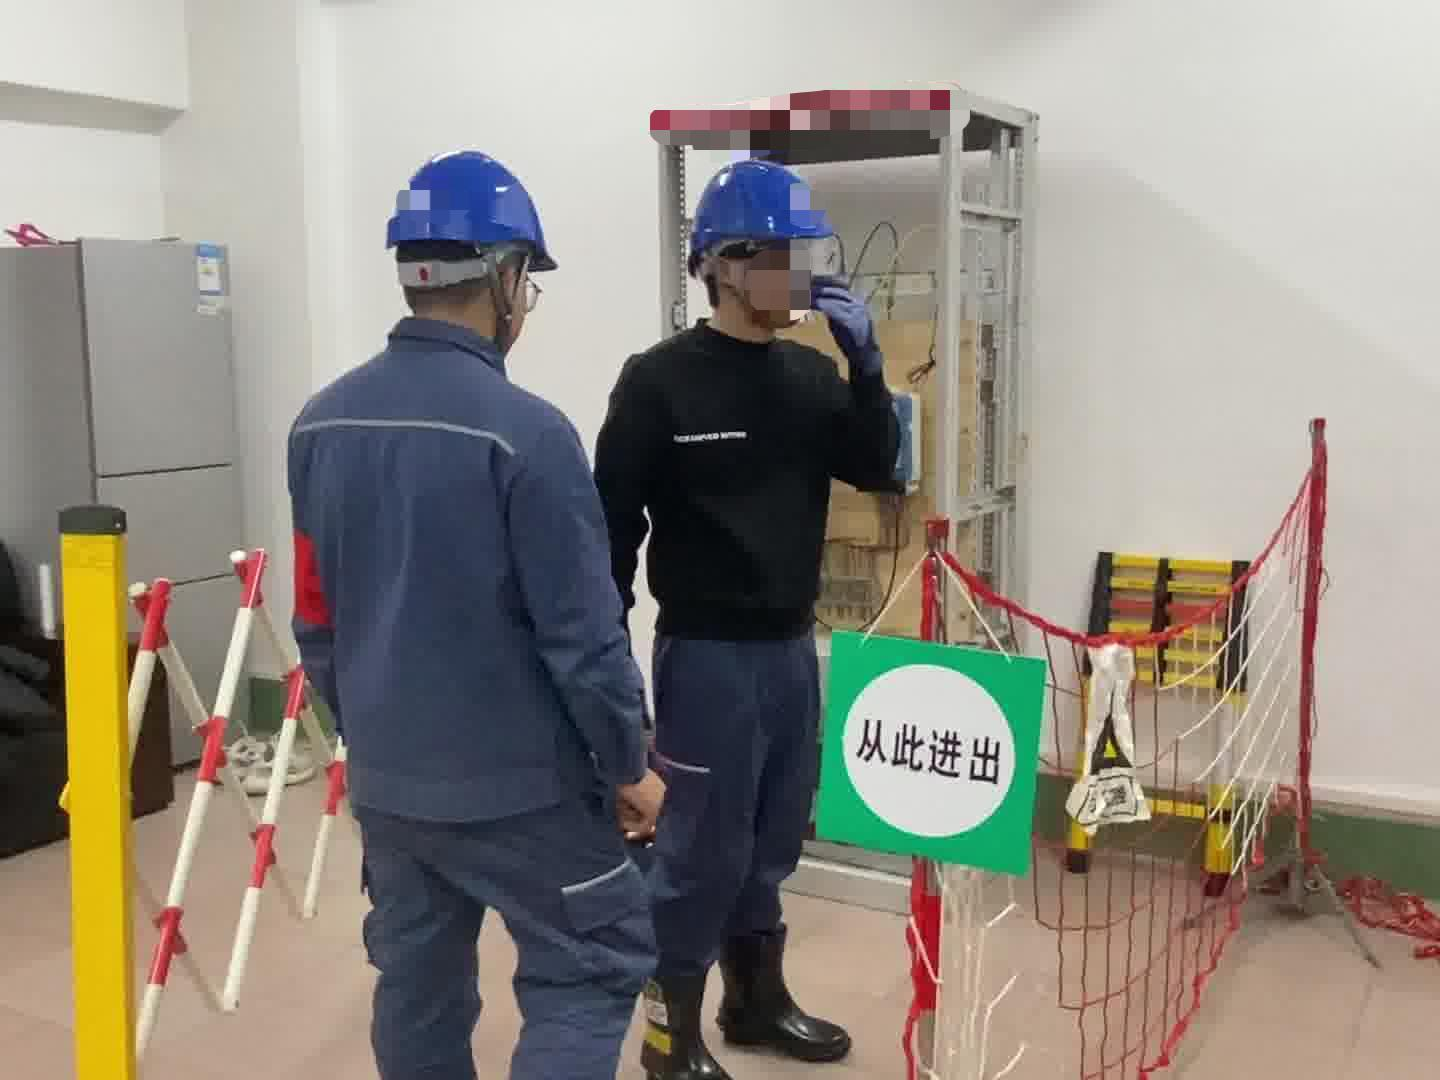halt: (382, 153, 564, 356), (685, 159, 842, 340)
inear: (703, 245, 771, 319), (484, 254, 533, 344)
